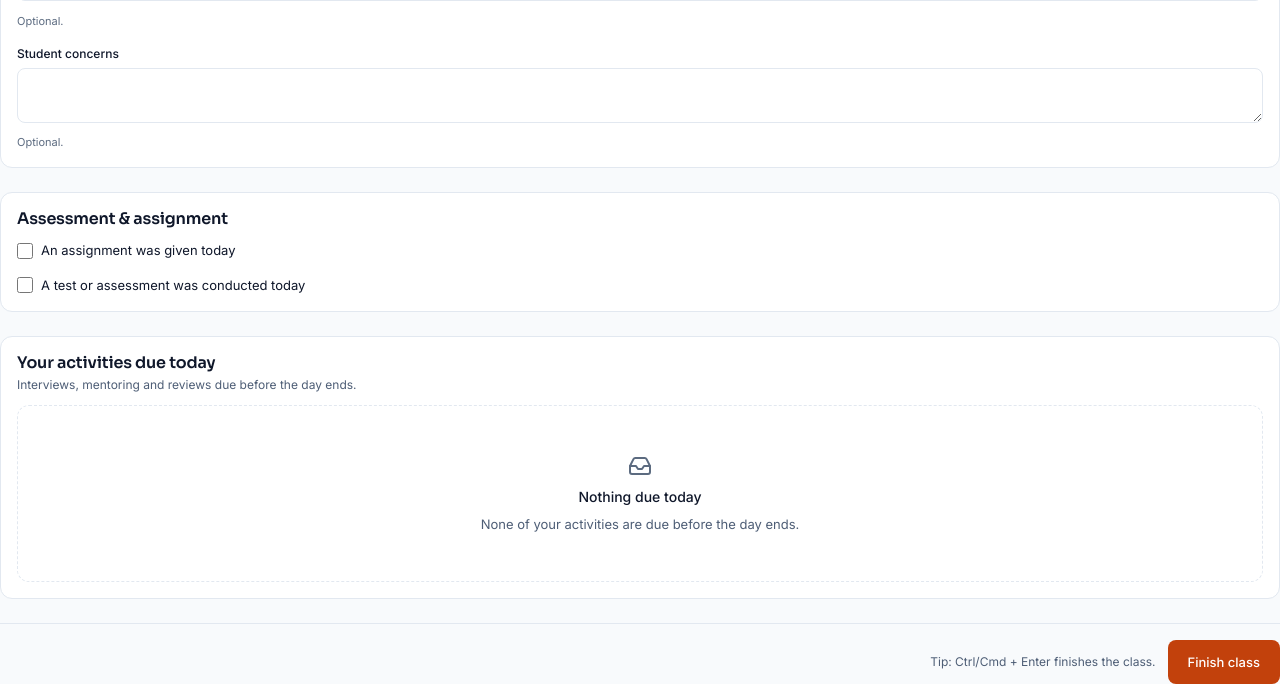
Scenario: ClassWorkspace › says why the report was refused when the reason is not about one of its fields
(page scrolled)
Step 1. Click the button "Finish class" → (1224, 662), box [1168, 640, 1279, 683]
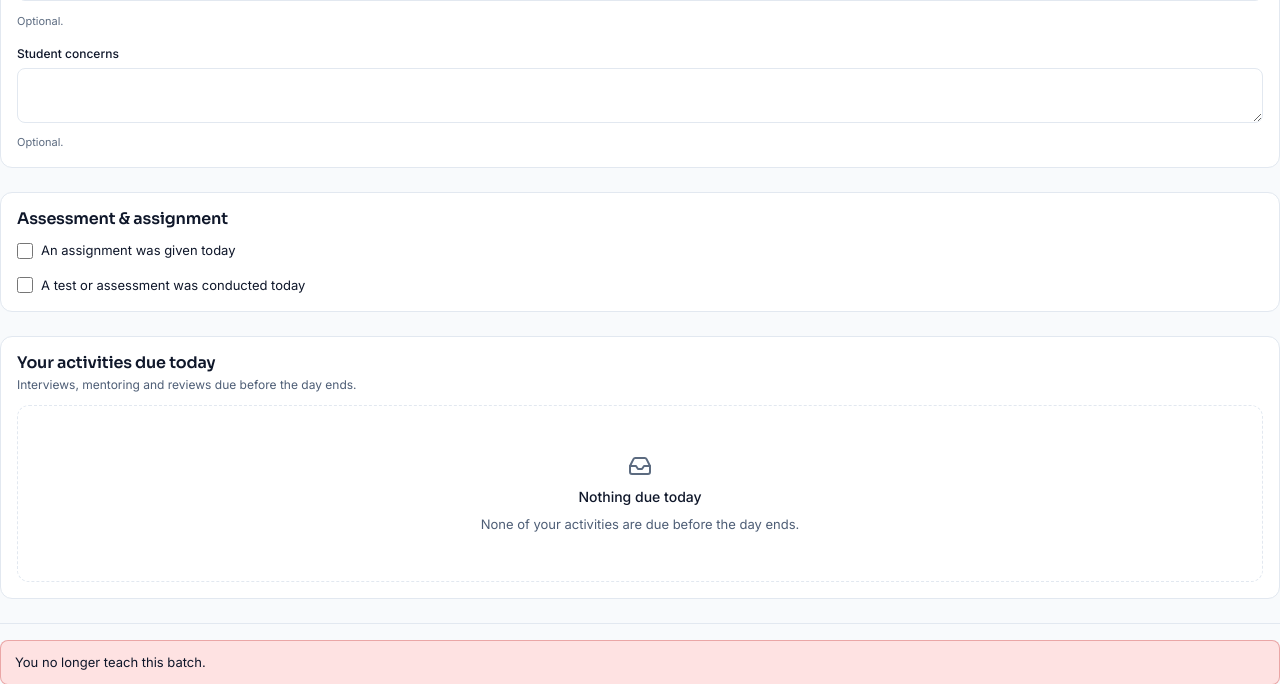
Result: the text "You no longer teach this batch." is shown at [0, 640, 1279, 683]
